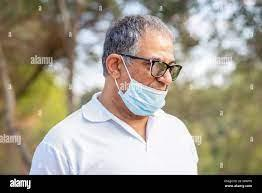mask_weared_incorrect: (112, 21, 174, 117)
